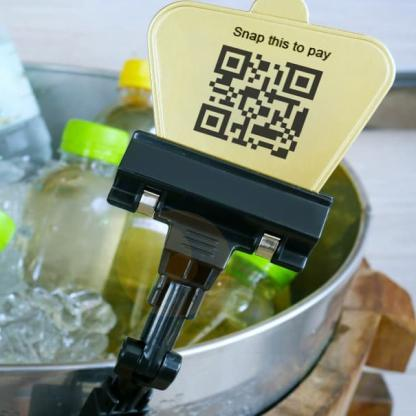qr_code: (193, 43, 324, 161)
